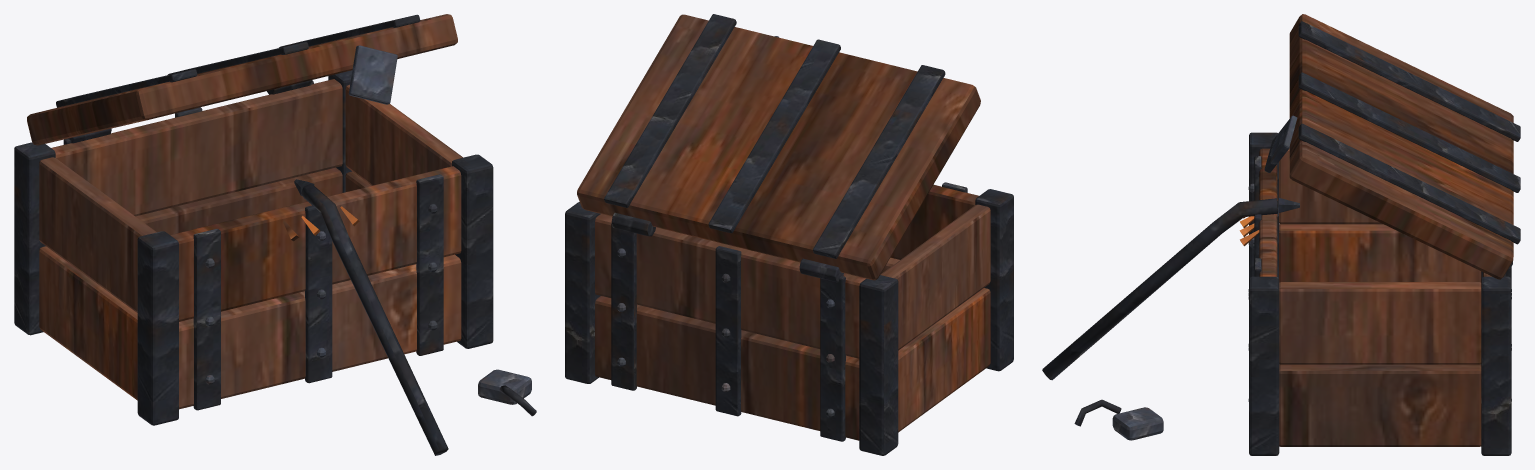
Rendered from op_strongbox_pried.glb.
3 renders of one model, left to right at view 1: azimuth 30°, elevation 25°; view 2: azimuth 150°, elevation 25°; view 3: azimuth 270°, elevation 25°, orthographic. The views are drawn at different scales.
Visible parts, largest first — view 1: model; view 2: model; view 3: model.
Part boxes in pixels (x1,y1,x2,y2): model: (14,14,536,455); model: (565,14,1013,455); model: (1042,14,1520,455).
Size of the model in its own units: 0.614 by 0.5494 by 0.7911.
Materials: 9 (8 with a texture image).
